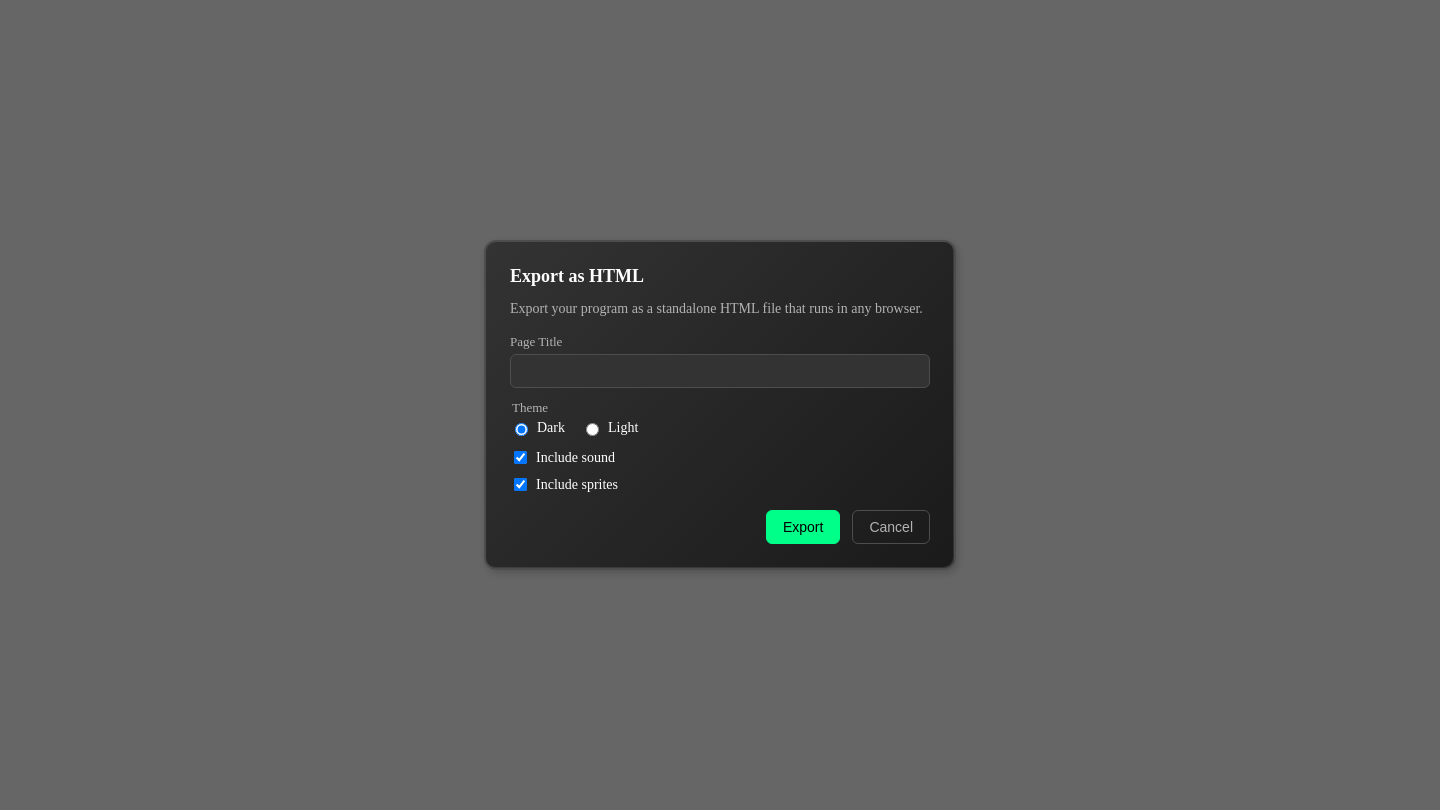
Test: ExportHtmlDialog › sprites toggle works
Click the checkbox with test id "export-html-include-sprites". click: (520, 485)
box: 514,478 -> 527,491
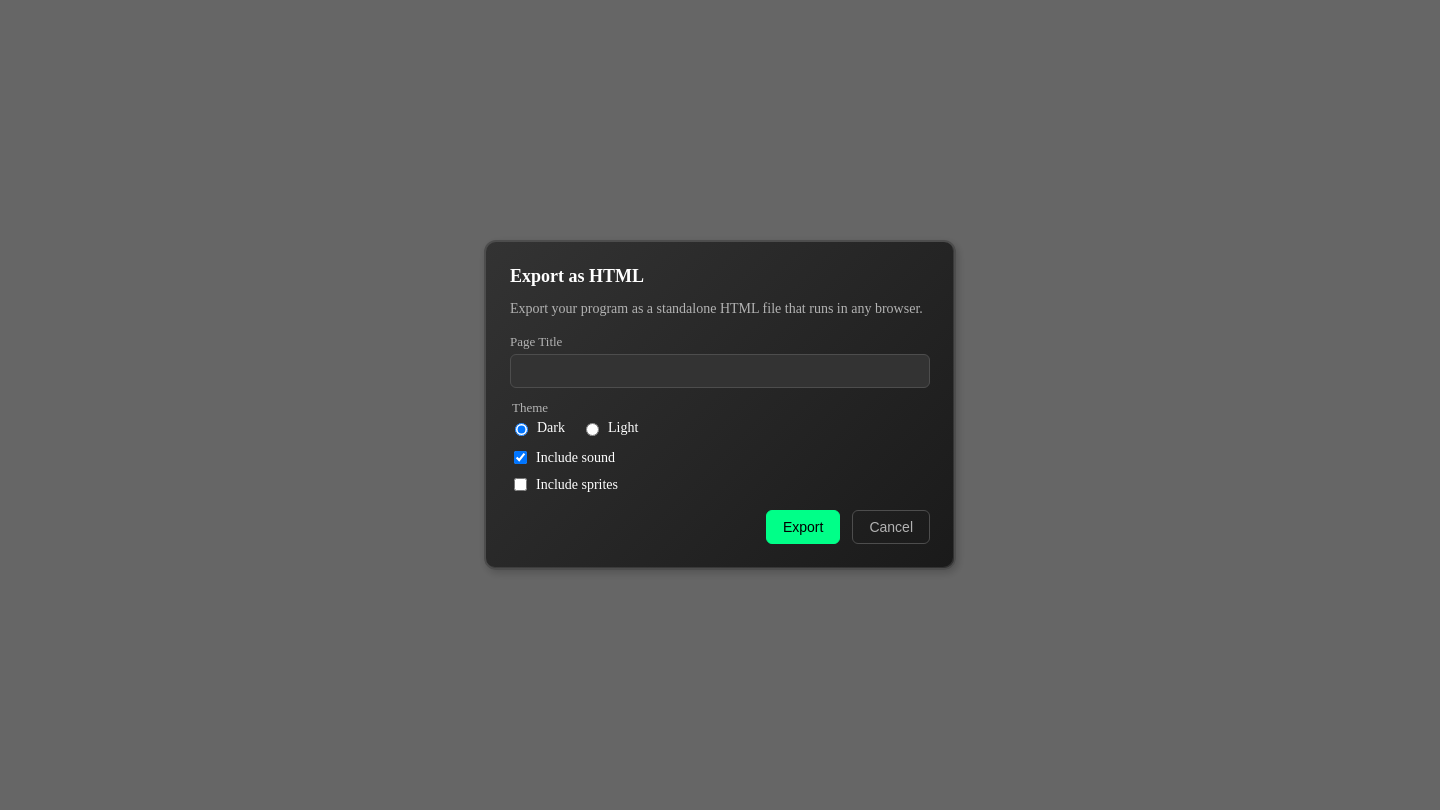
Expected: the checkbox with test id "export-html-include-sprites" is not checked, 514,478 -> 527,491
